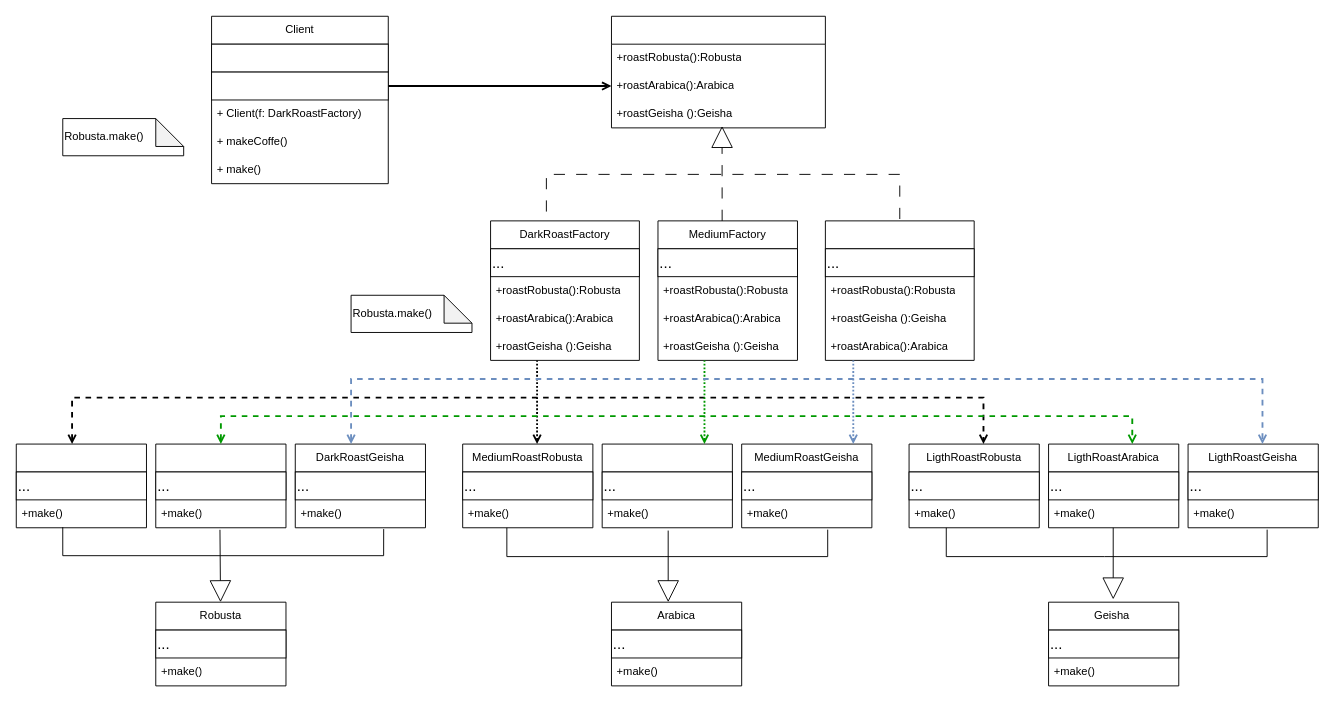
The diagram is 1335 pixels wide and 702 high, and some of its shapes have lost their labels. The box of each missing label's shape, as (x1, y1, x2, y2) in pixels:
- factory:DarkRoastFactory: (211, 43, 388, 72)
- robusta : Robusta: (211, 71, 388, 100)
<<interface>> CoffeeRoastFactory: (611, 15, 825, 128)
DarkRoastArabica: (155, 443, 286, 528)
DarkRoastRobusta: (15, 443, 146, 528)
LightFactory: (824, 220, 974, 360)
MediumRoastArabica: (601, 443, 732, 528)
